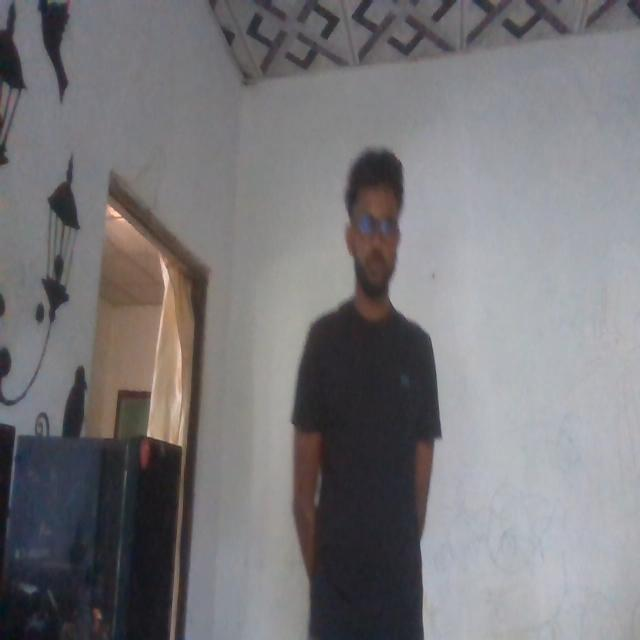Person: (290, 132, 446, 628)
